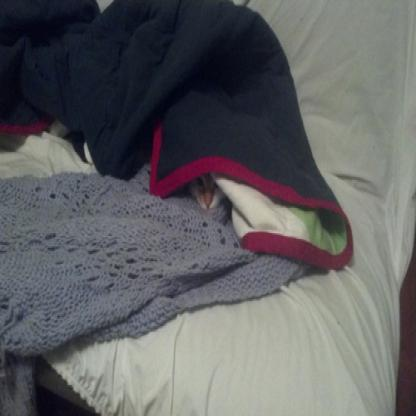Target: (182, 161, 230, 224)
